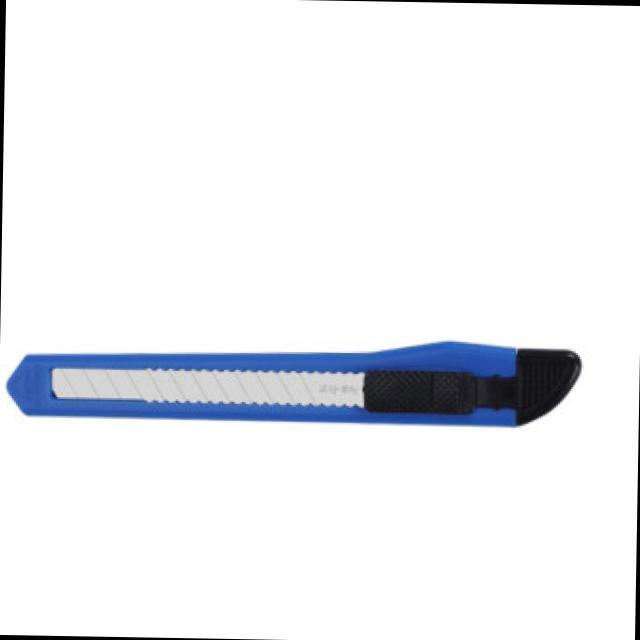cutter: (0, 323, 596, 458)
